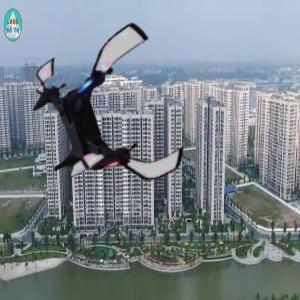drone: (26, 33, 197, 204)
